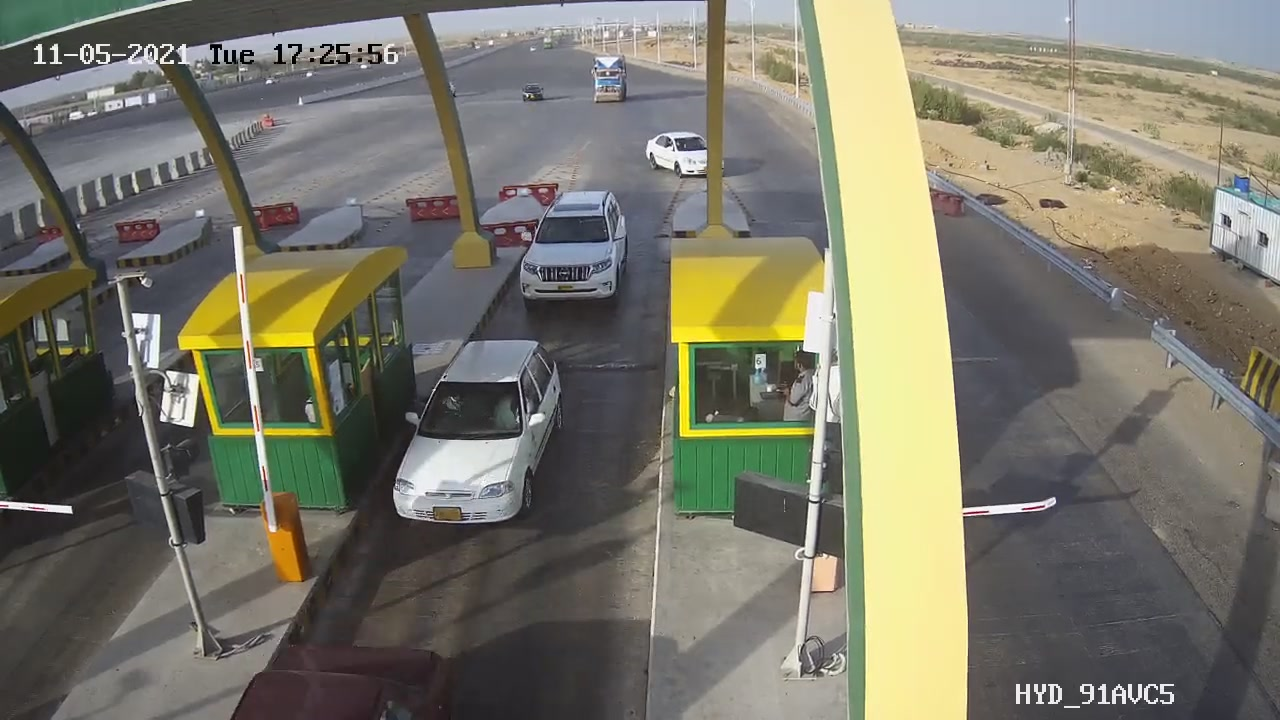F1: (374, 318, 582, 552), (504, 179, 650, 316)
